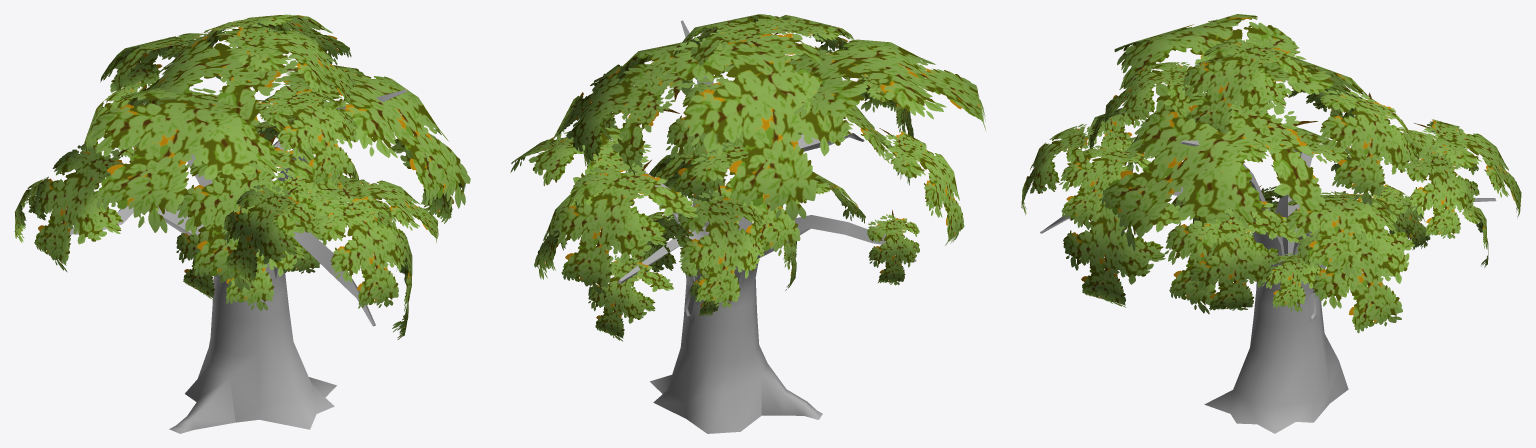
Rendered from SM_Tree_04.fbx.
3 views of the same model, side by side, from view 1: azimuth 30°, elevation 25°; view 2: azimuth 150°, elevation 25°; view 3: azimuth 270°, elevation 25° (orthographic). The views are drawn at different scales.
Visible parts, largest first — view 1: SM_Tree_04; view 2: SM_Tree_04; view 3: SM_Tree_04.
Part boxes in pixels (left/top/right/bottom): SM_Tree_04: left=14, top=14, right=470, bottom=433; SM_Tree_04: left=510, top=14, right=985, bottom=433; SM_Tree_04: left=1021, top=14, right=1521, bottom=433.
Bounding box in the file's own units: 3737 × 3200 × 4232.
